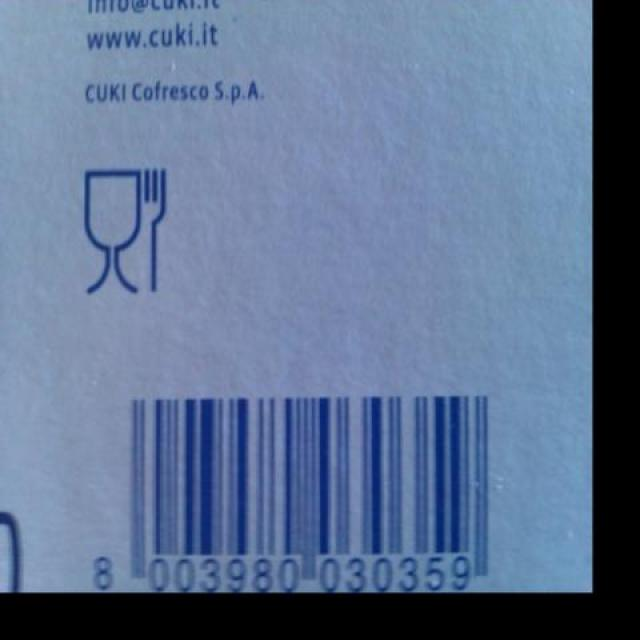Barcode: (81, 378, 510, 581)
